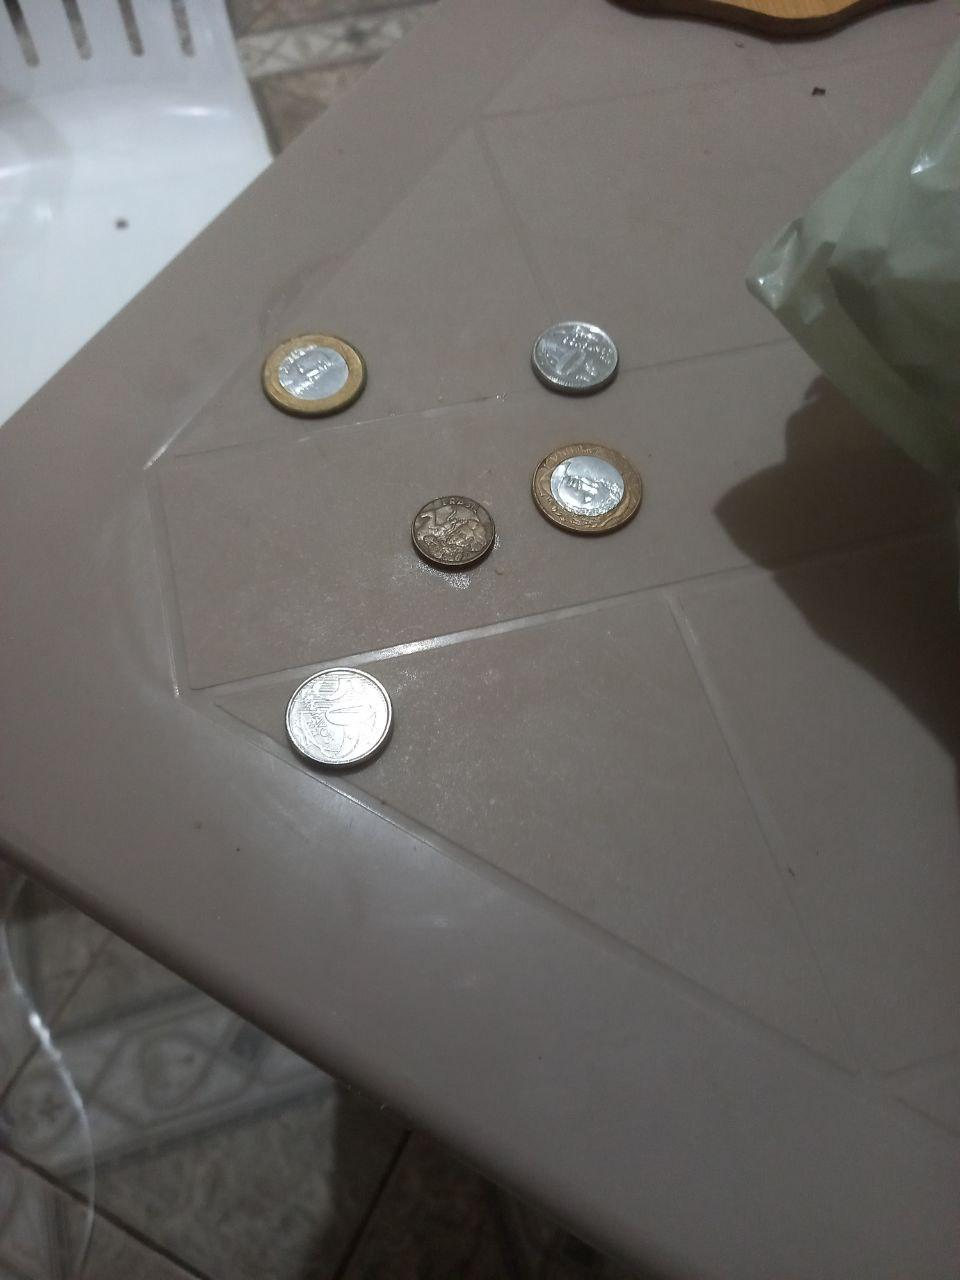1 real: (515, 430, 664, 554), (250, 328, 379, 422)
10 cent: (375, 468, 517, 587)
25 cent: (263, 645, 424, 798), (513, 300, 639, 416)
